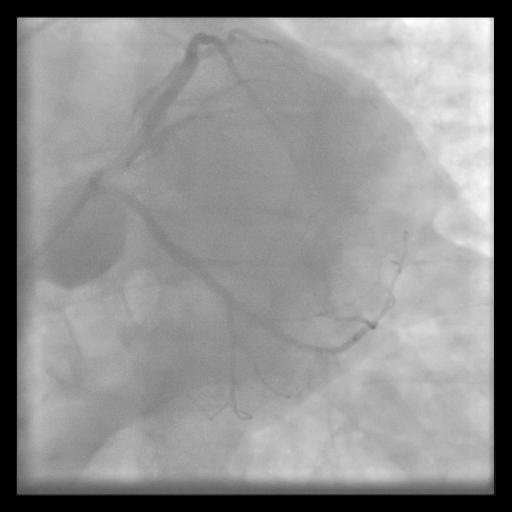Stenosis: (238, 297, 285, 335)
